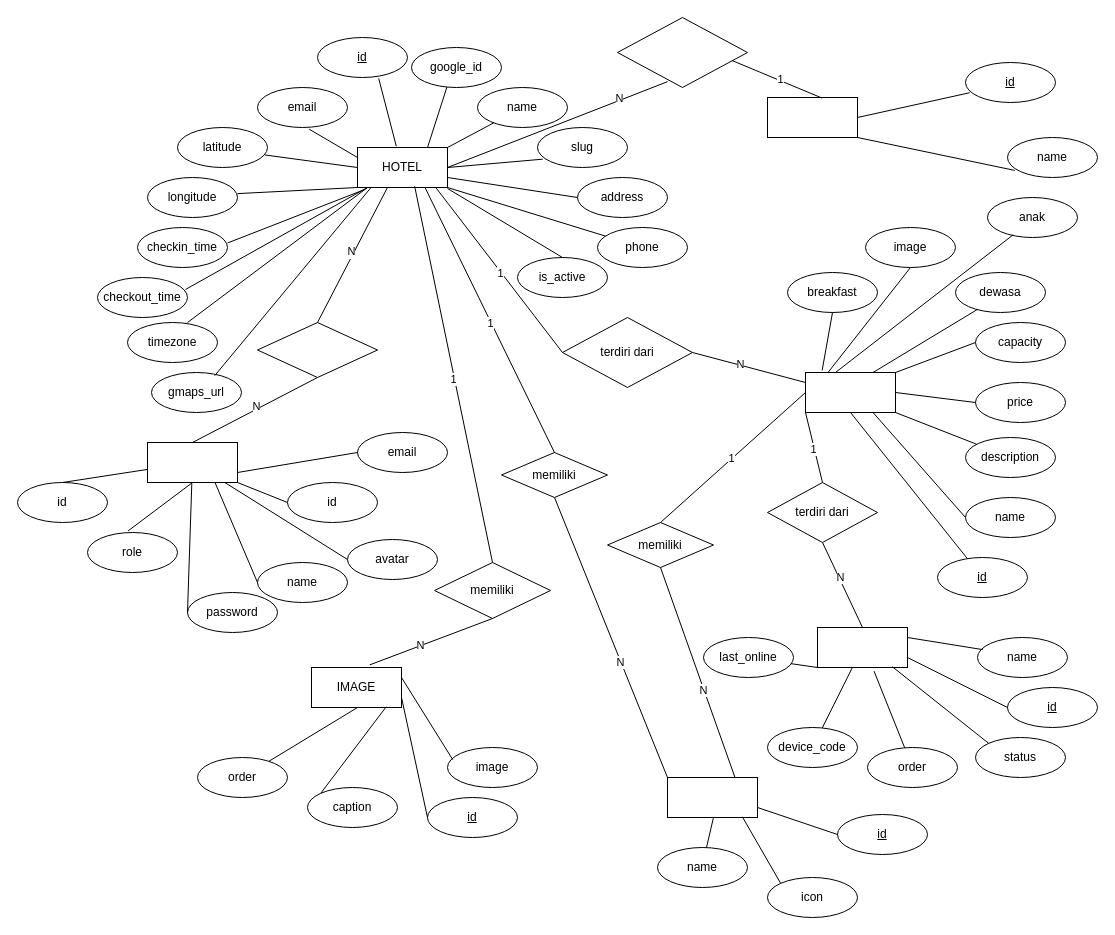
The diagram is 1115 pixels wide and 935 high, and some of its shapes have lost their labels. Each missing label, with the centre of its shape:
Admin: (192,462)
CITY: (812,117)
FACILITY: (712,797)
Manage: (317,350)
POD: (862,647)
POD_TYPE: (850,392)
terletak: (682,52)
